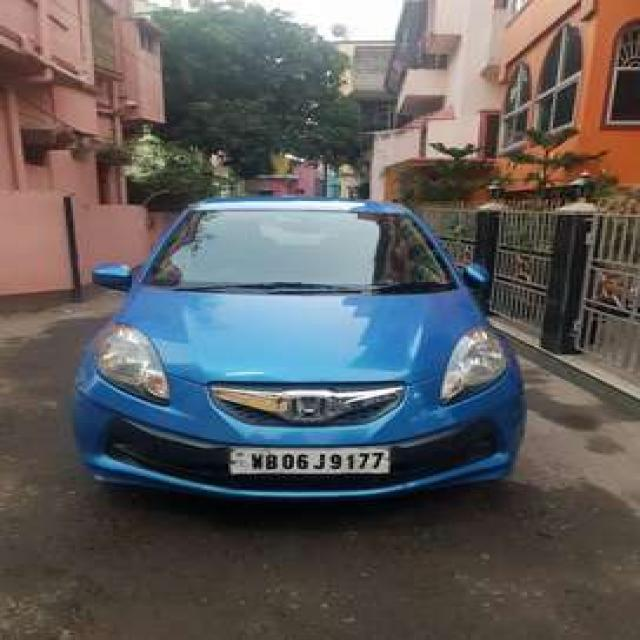Plate: (224, 446, 387, 474)
